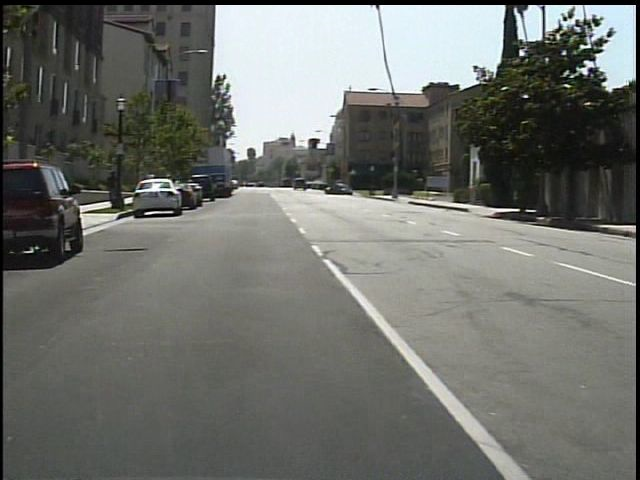person: (101, 167, 114, 208)
